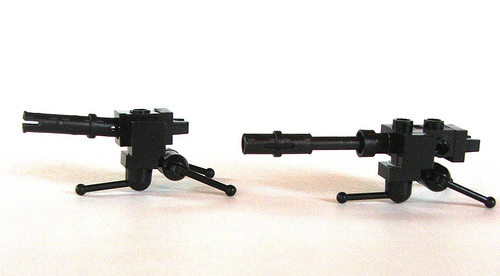rifle: (241, 109, 485, 202), (21, 107, 226, 204)
